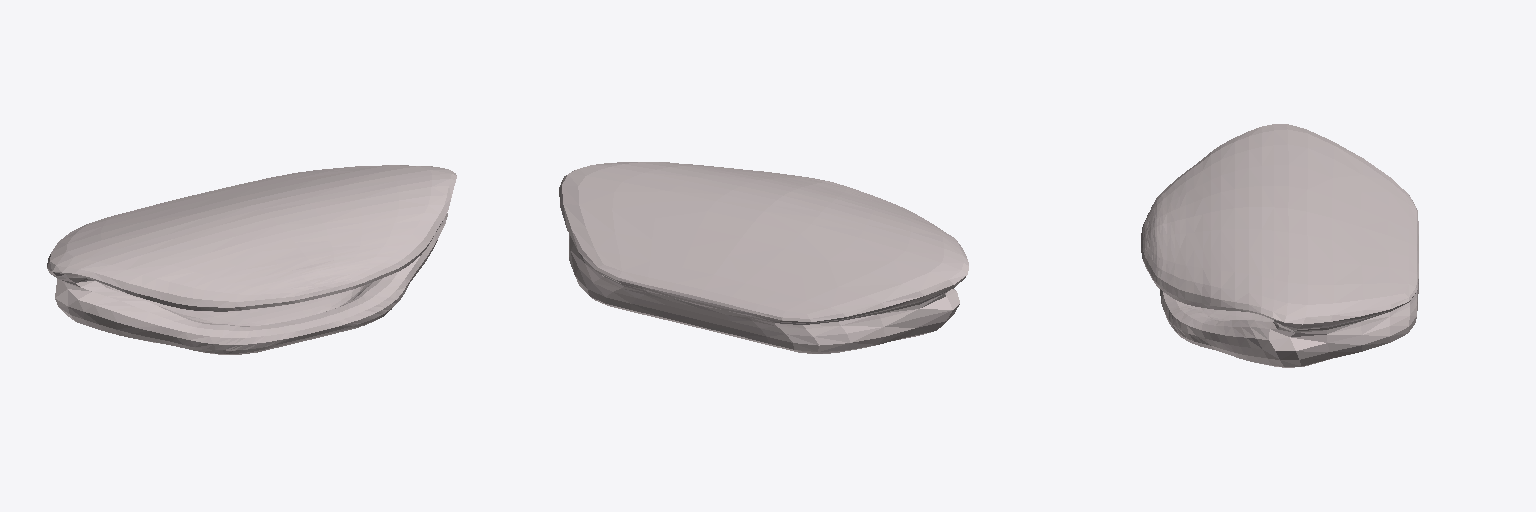
The model's file is bocad2.obj.
3 renders of one model, left to right at view 1: azimuth 30°, elevation 25°; view 2: azimuth 150°, elevation 25°; view 3: azimuth 270°, elevation 25°, orthographic.
Parts seen in each view (by area): view 1: Gums_001; view 2: Gums_001; view 3: Gums_001.
Boxes of the visible parts, box(x1,y1,x2,y2) form: Gums_001: box(47, 165, 456, 354); Gums_001: box(559, 162, 968, 353); Gums_001: box(1141, 124, 1418, 367).
Size of the model in its own units: 0.166 by 0.0388 by 0.0992.